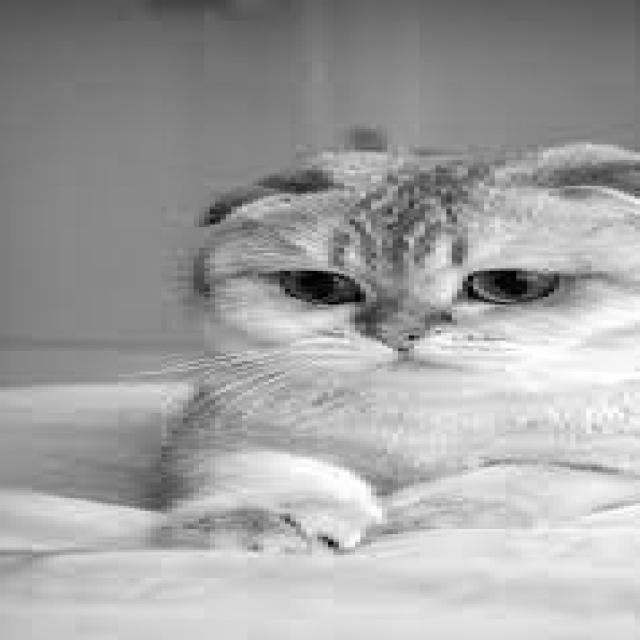scootish: (172, 124, 640, 413)
